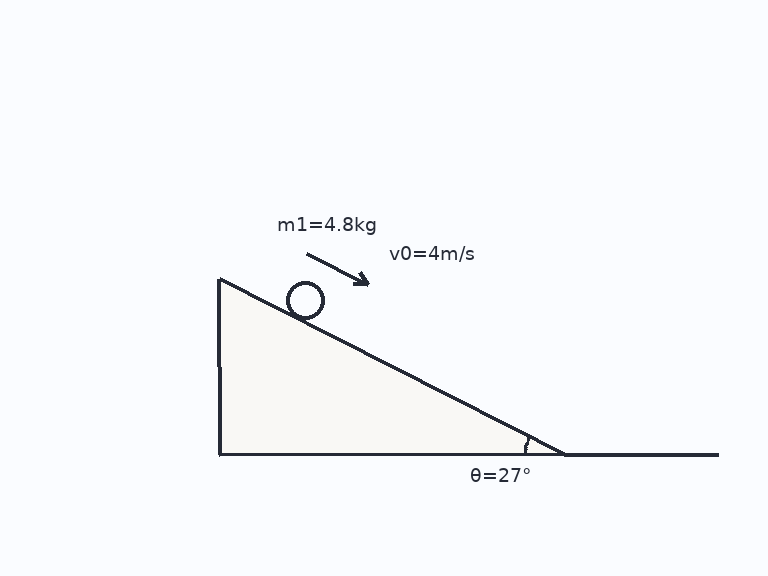ball: (284, 279, 326, 321)
ramp: (217, 276, 567, 456)
